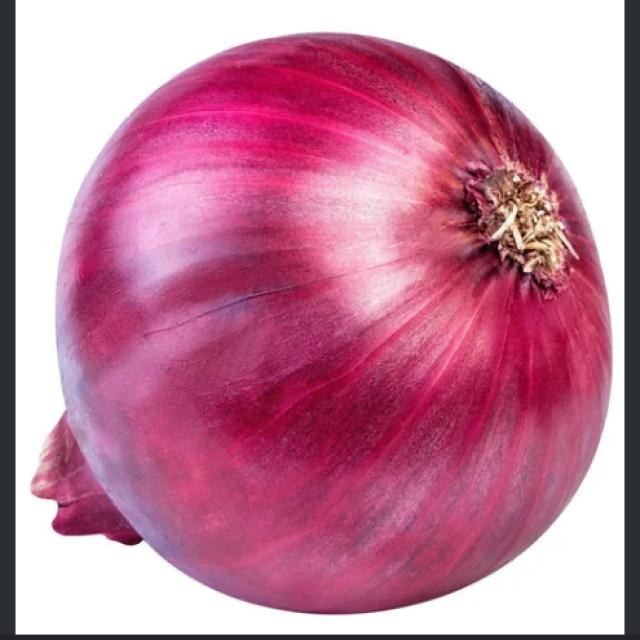healthy: (26, 0, 614, 620)
